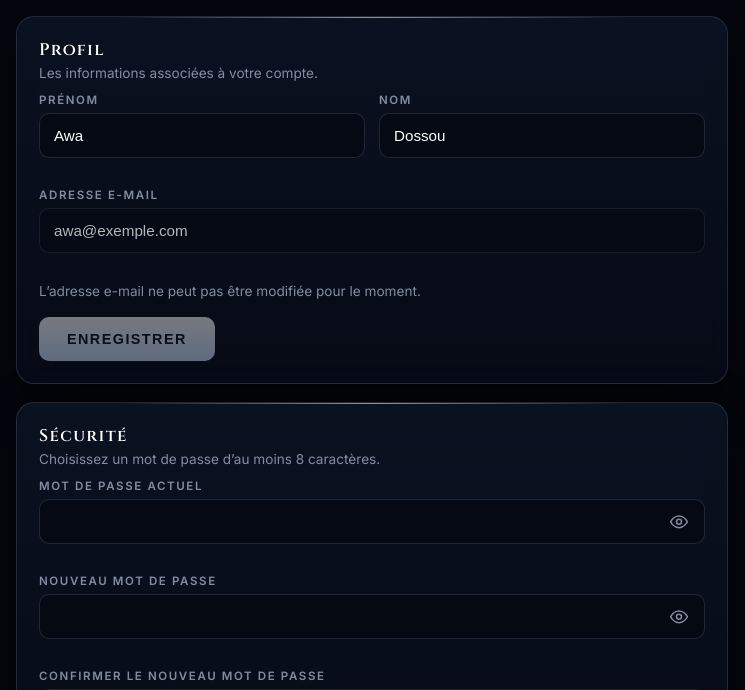
Test: Settings : profil › n’active « Enregistrer » qu’après une modification
Expected: the button "Enregistrer" is disabled, [39,317,215,361]
Replace the text in the field labelled "Prénom" with "Marc" at (202, 136), box [39,113,365,158]
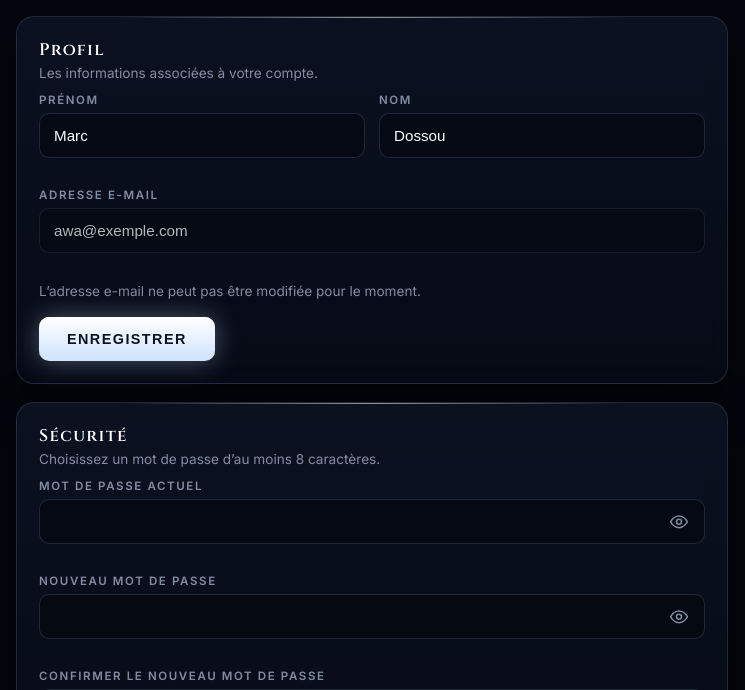
Now the button "Enregistrer" is enabled, box [39,317,215,361]
